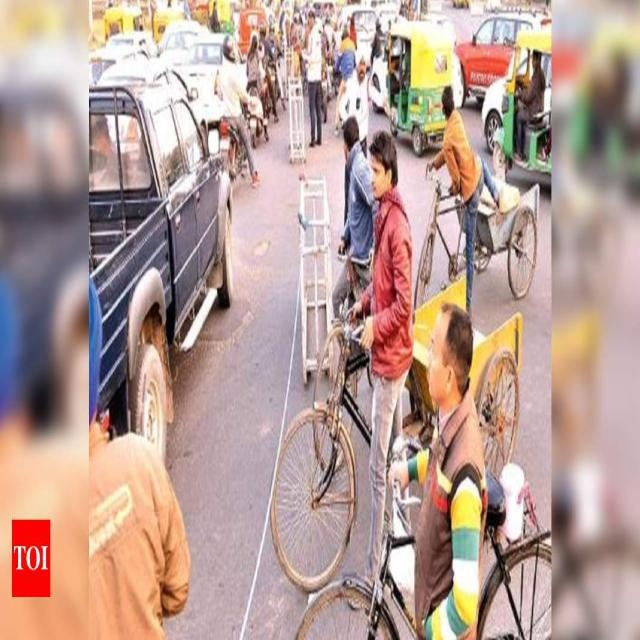autorickshaw: (385, 21, 455, 154), (494, 29, 551, 174)
bicycle: (271, 131, 412, 591), (414, 85, 539, 309)
car: (89, 88, 232, 458), (455, 14, 539, 98)
